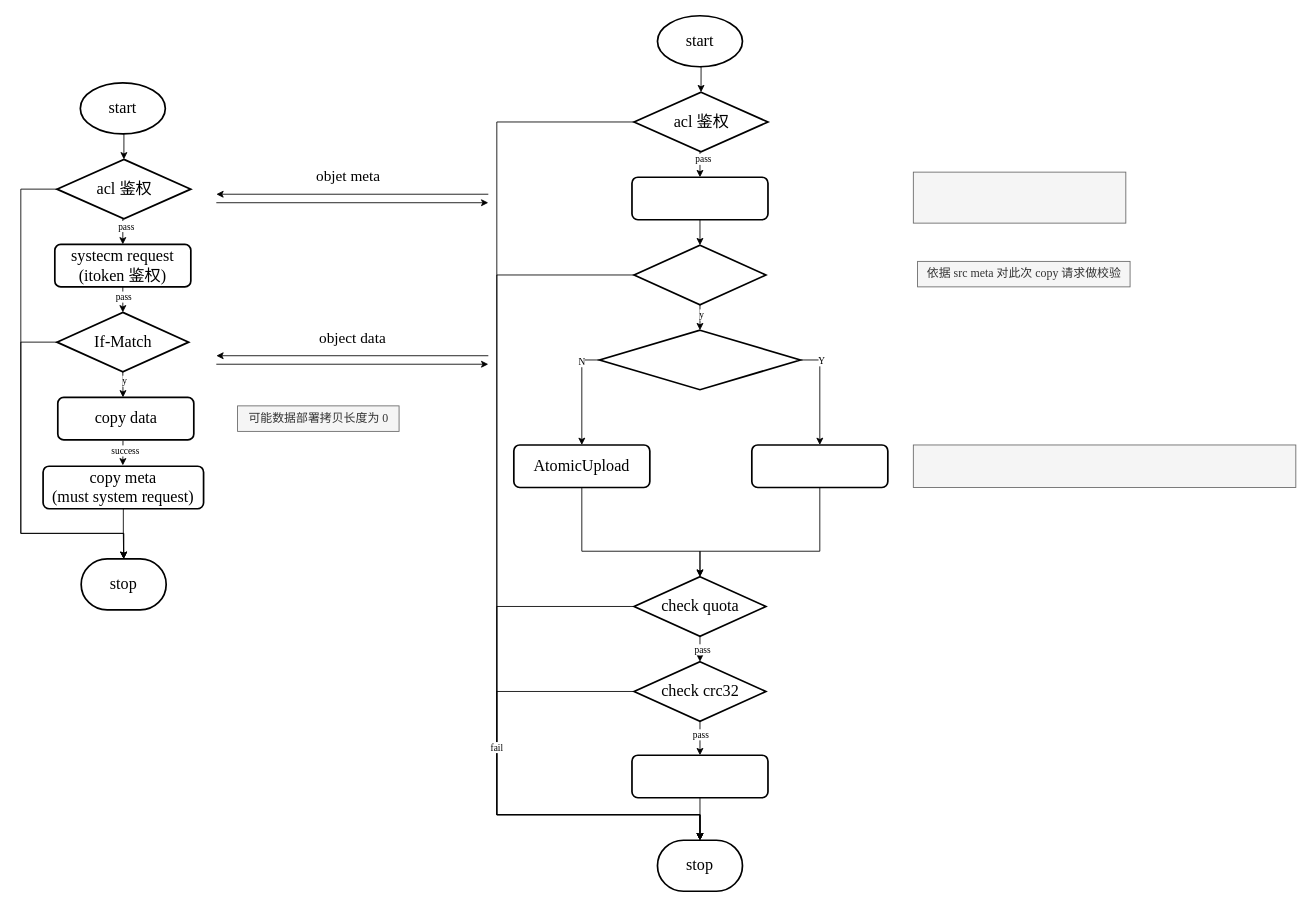
The diagram is 1311 pixels wide and 906 high, and some of its shapes have lost their labels. The centre of each missing label's shape, as x and y in pixels:
"each part size：rgw_multipart_part_size 对齐三步上传，每个 part 单独做压缩、加密，计算 etag/crc32" goes at [1104,465].
"get src obj meta" goes at [699,198].
"MultipartUpload" goes at [819,466].
"object size > rgw_copy_obj_multipart_threshold" goes at [699,359].
"put dest obj meta" goes at [699,776].
"range get src obj（length=0） 不读取数据，只加一些特殊的 header 代表内部 get meta 的请求" goes at [1019,197].
"validate request" goes at [699,274].
